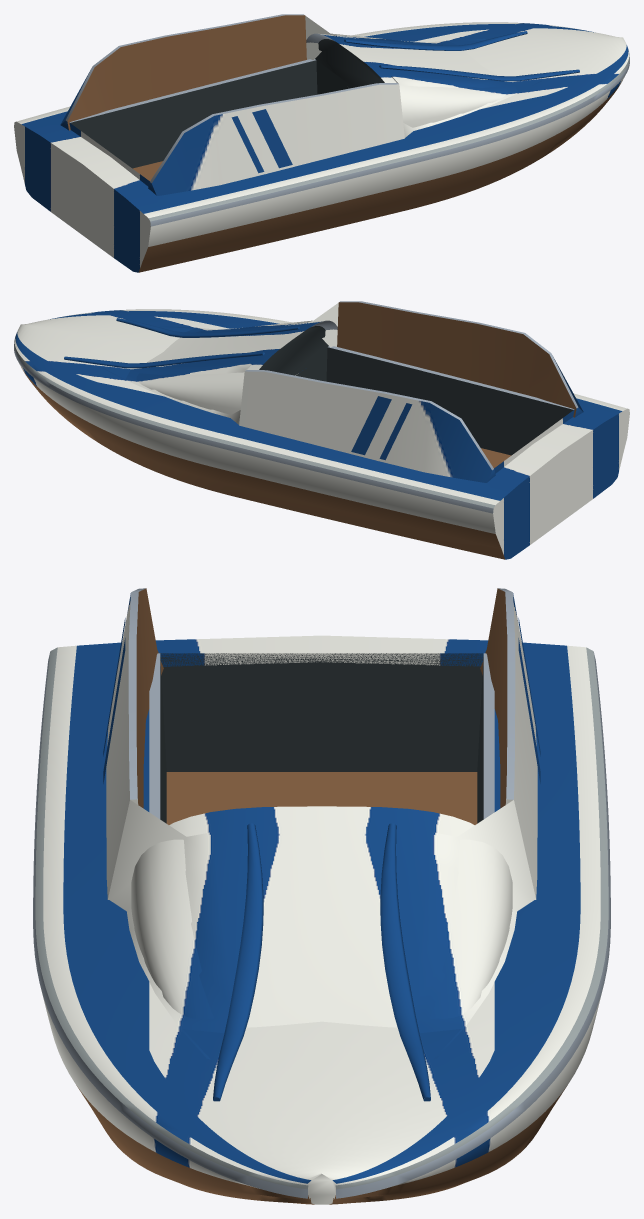
File: Hull_14_R_白波・瑠璃.glb
The picture shows the model from 3 angles, top to bottom: view 1: azimuth 30°, elevation 25°; view 2: azimuth 150°, elevation 25°; view 3: azimuth 270°, elevation 25°; orthographic projection. The views are drawn at different scales.
Visible parts, largest first — view 1: Hull_14_R; view 2: Hull_14_R; view 3: Hull_14_R.
Part boxes in pixels (bbox=[...]): Hull_14_R: bbox=[14, 14, 629, 272]; Hull_14_R: bbox=[14, 301, 629, 559]; Hull_14_R: bbox=[33, 588, 610, 1204].
Bounding box in the file's own units: 2.9 × 0.6856 × 1.34.
4 materials, 4 textured.
